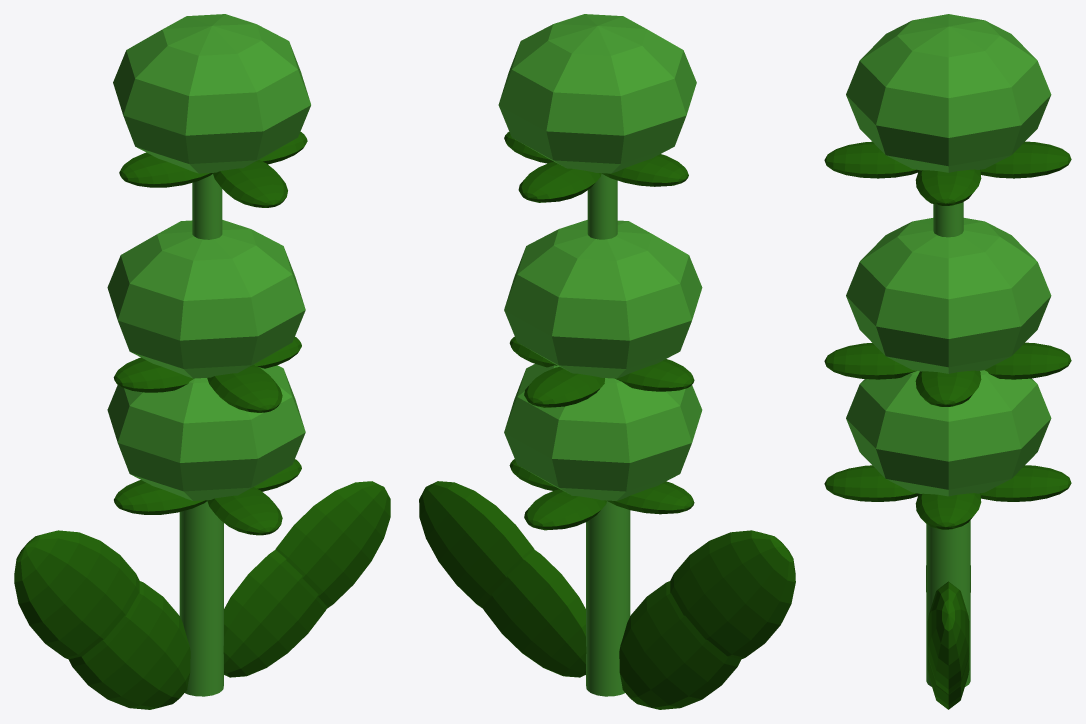
Rendered from kush3.fbx.
3 renders of one model, left to right at view 1: azimuth 30°, elevation 25°; view 2: azimuth 150°, elevation 25°; view 3: azimuth 270°, elevation 25°, orthographic.
Parts seen in each view (by area): view 1: Kush2, Kush1, Kush, LeafBase4, LeafBase2, LeafBase3, LeafBase1, Stalk, Stalk_Leaf6, Stalk_Leaf4, Stalk_Leaf9, Stalk_Leaf11 (+6 smaller); view 2: Kush2, Kush1, Kush, LeafBase4, LeafBase2, LeafBase3, LeafBase1, Stalk, Stalk_Leaf3, Stalk_Leaf12, Stalk_Leaf7, Stalk1 (+3 smaller); view 3: Kush2, Kush1, Kush, LeafBase3, Stalk, Stalk_Leaf4, Stalk_Leaf9, Stalk_Leaf3, Stalk_Leaf12, Stalk_Leaf6, Stalk_Leaf7, Stalk_Leaf2 (+4 smaller).
Boxes of the visible parts, x1,y1,x2,y2 form: Kush2: (113, 14, 310, 173); Kush1: (107, 220, 305, 378); Kush: (107, 365, 305, 500); LeafBase4: (14, 530, 139, 659); LeafBase2: (68, 581, 190, 709); LeafBase3: (275, 481, 390, 608); LeafBase1: (223, 550, 327, 677); Stalk: (179, 501, 223, 696); Stalk_Leaf6: (207, 364, 282, 412); Stalk_Leaf4: (207, 487, 282, 535); Stalk_Leaf9: (213, 160, 287, 207); Stalk_Leaf11: (119, 152, 212, 187); Kush2: (498, 14, 696, 173); Kush1: (504, 220, 702, 378); Kush: (504, 364, 702, 500); LeafBase4: (670, 530, 795, 659); LeafBase2: (619, 581, 741, 709); LeafBase3: (419, 481, 534, 608); LeafBase1: (482, 550, 586, 677); Stalk: (586, 501, 630, 696); Stalk_Leaf3: (524, 489, 606, 530); Stalk_Leaf12: (518, 162, 601, 202); Stalk_Leaf7: (524, 366, 604, 407); Stalk1: (587, 173, 617, 239); Kush2: (846, 14, 1051, 172); Kush1: (846, 218, 1051, 373); Kush: (846, 370, 1051, 496); LeafBase3: (927, 581, 969, 693); Stalk: (926, 520, 970, 686); Stalk_Leaf4: (824, 465, 919, 501); Stalk_Leaf9: (824, 141, 919, 178); Stalk_Leaf3: (980, 465, 1071, 501); Stalk_Leaf12: (980, 141, 1071, 178); Stalk_Leaf6: (824, 343, 916, 379); Stalk_Leaf7: (984, 342, 1071, 379); Stalk_Leaf2: (915, 493, 981, 529).
Size of the model in its own units: 5.27 by 8.95 by 2.99.
